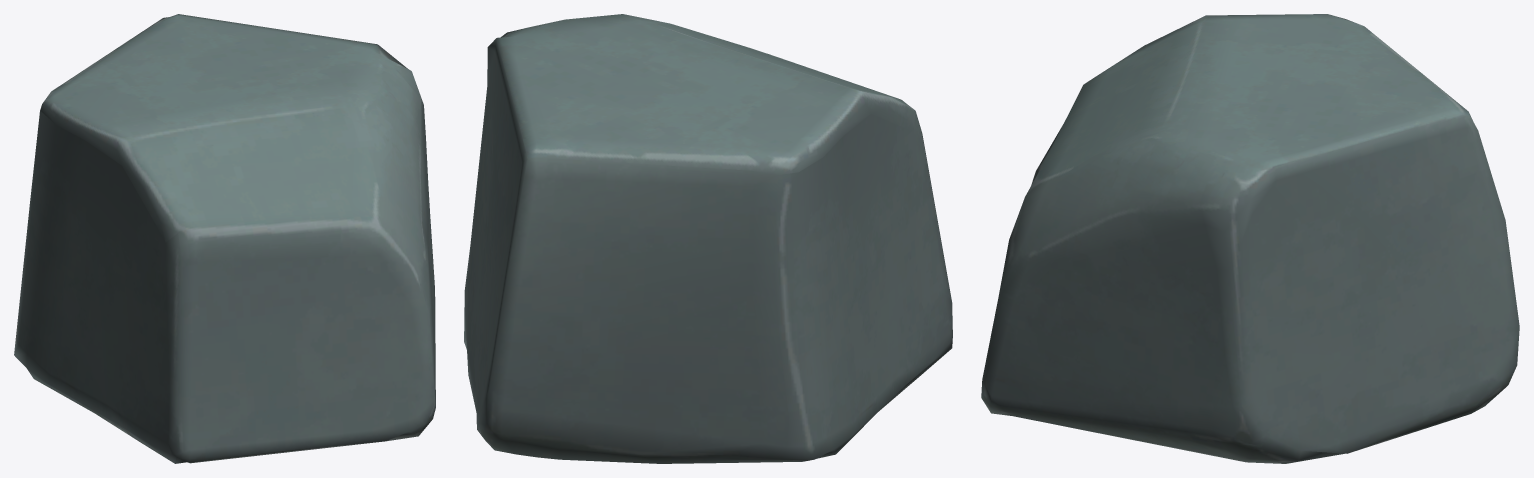
The model's file is Stone.fbx.
3 renders of one model, left to right at view 1: azimuth 30°, elevation 25°; view 2: azimuth 150°, elevation 25°; view 3: azimuth 270°, elevation 25°, orthographic. The views are drawn at different scales.
Parts seen in each view (by area): view 1: SM_Rock; view 2: SM_Rock; view 3: SM_Rock.
Part boxes in pixels (x1=…): SM_Rock: x1=14, y1=14, x2=435, y2=463; SM_Rock: x1=464, y1=14, x2=952, y2=463; SM_Rock: x1=981, y1=14, x2=1519, y2=463.
Bounding box in the file's own units: 64.69 × 47 × 77.26.
